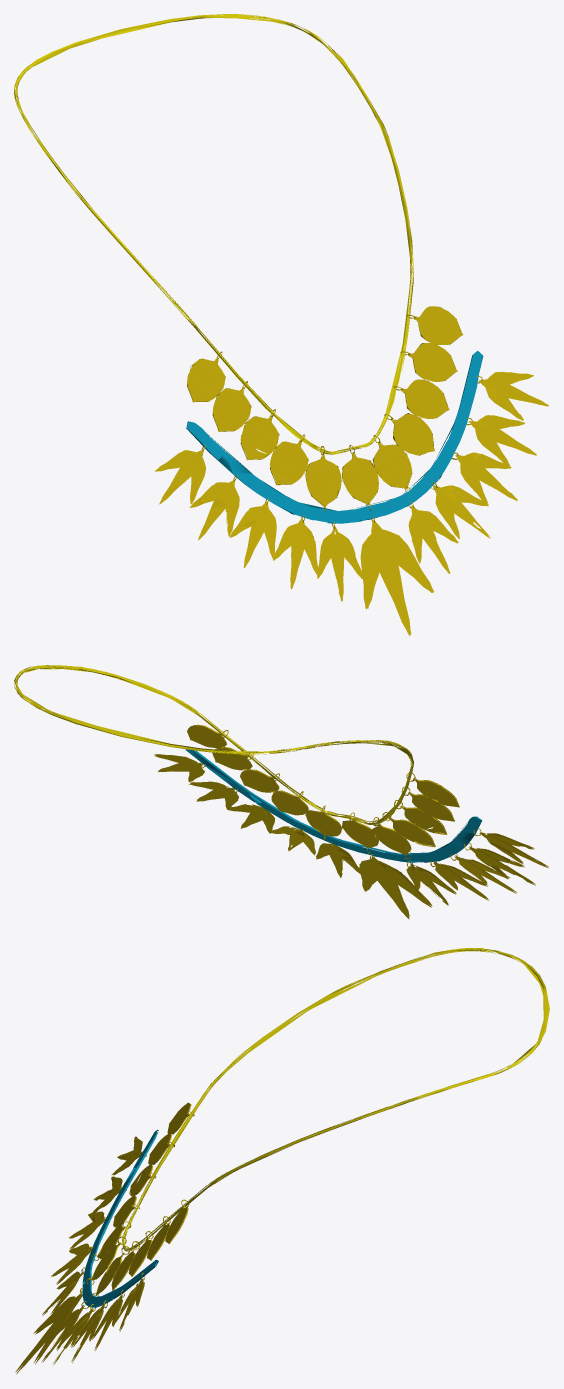
The model's file is New Necklace 4.glb.
3 views of the same model, one above another, from view 1: azimuth 30°, elevation 25°; view 2: azimuth 150°, elevation 25°; view 3: azimuth 270°, elevation 25° (orthographic). The views are drawn at different scales.
Visible parts, largest first — view 1: Object_7; view 2: Object_7; view 3: Object_7.
Part boxes in pixels (x1,y1,x2,y2): Object_7: [14, 14, 548, 635]; Object_7: [14, 665, 548, 918]; Object_7: [15, 948, 549, 1374].
Size of the model in its own units: 0.0703 by 0.0681 by 0.0901.
